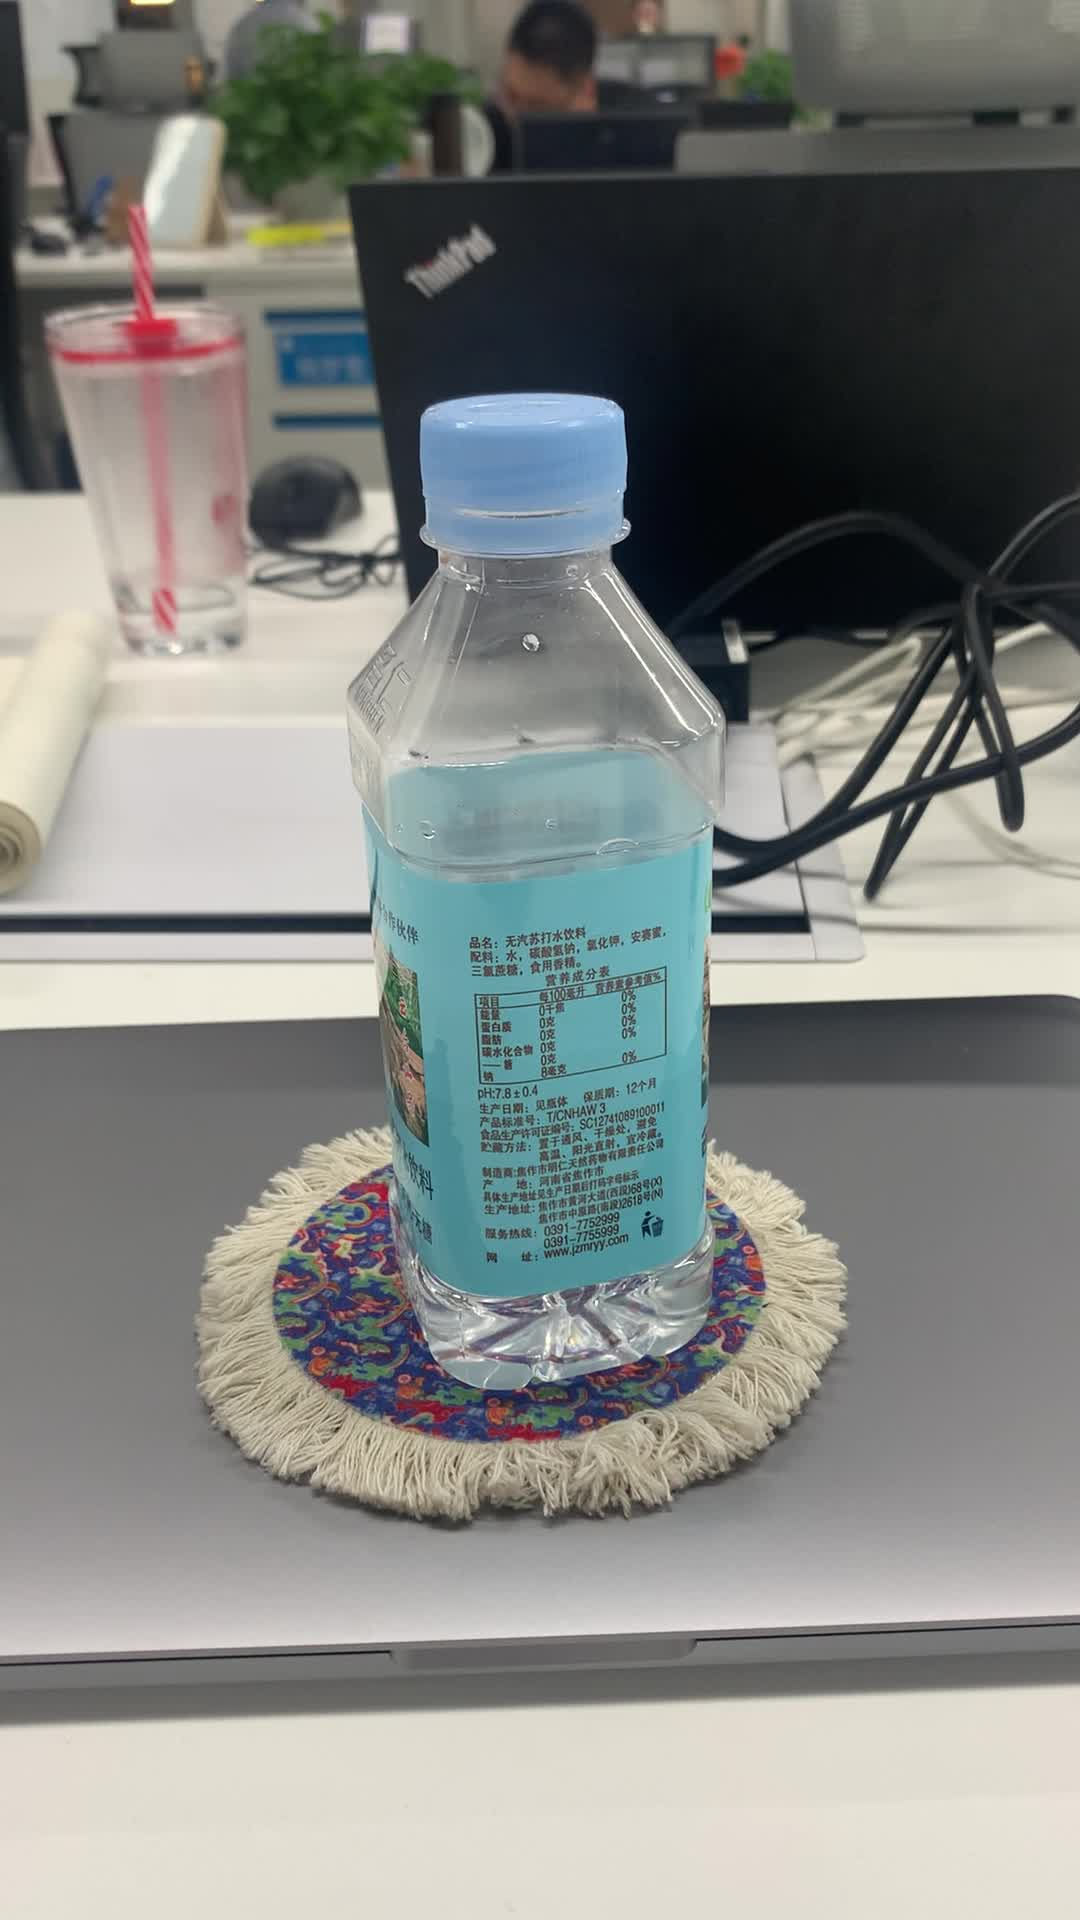水瓶: (334, 382, 738, 1385)
